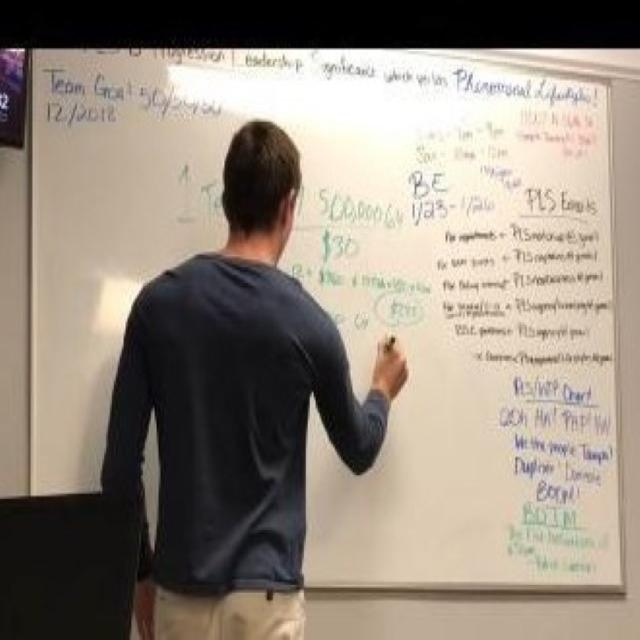Instructor: (149, 107, 329, 626)
White-board: (31, 46, 627, 597)
